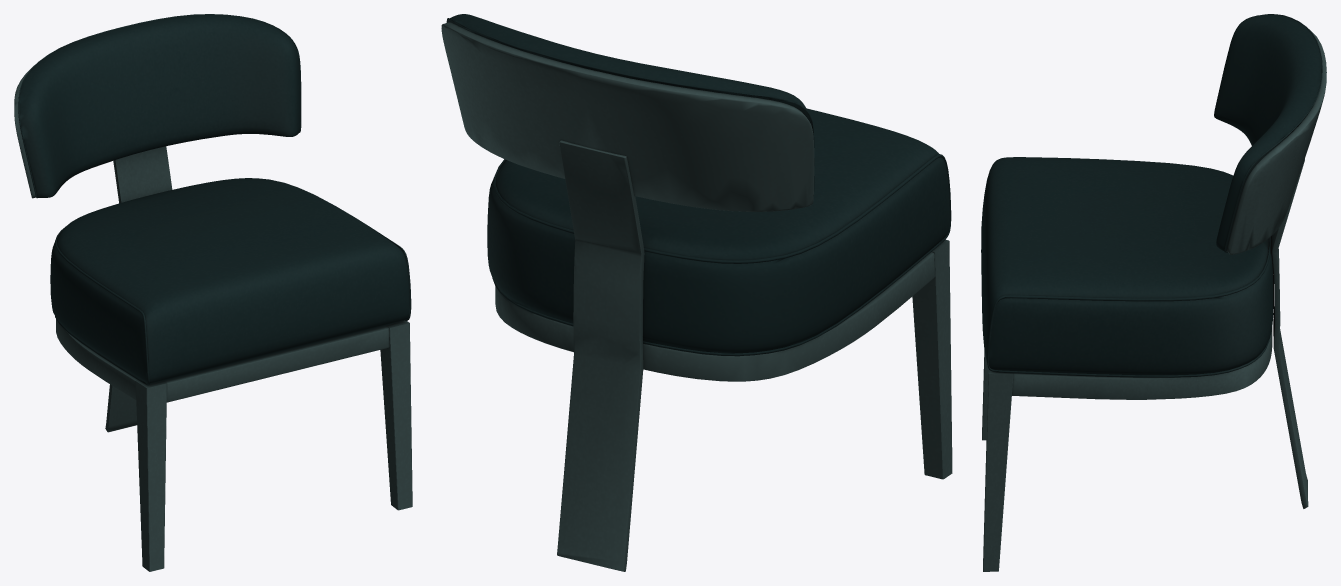
The model's file is Dining_Chair_95d6bce8-a544-567a-b204-ebdfb116cad0.glb.
The picture shows the model from 3 angles, left to right: view 1: azimuth 30°, elevation 25°; view 2: azimuth 150°, elevation 25°; view 3: azimuth 270°, elevation 25°; orthographic projection. The views are drawn at different scales.
Visible parts, largest first — view 1: raw_model.obj; view 2: raw_model.obj; view 3: raw_model.obj.
Boxes of the visible parts, left/top/right/bottom form: raw_model.obj: left=14, top=14, right=412, bottom=571; raw_model.obj: left=441, top=14, right=952, bottom=571; raw_model.obj: left=981, top=14, right=1326, bottom=571.
Bounding box in the file's own units: 0.5345 × 0.7208 × 0.5169.
Materials: 1 (1 with a texture image).
